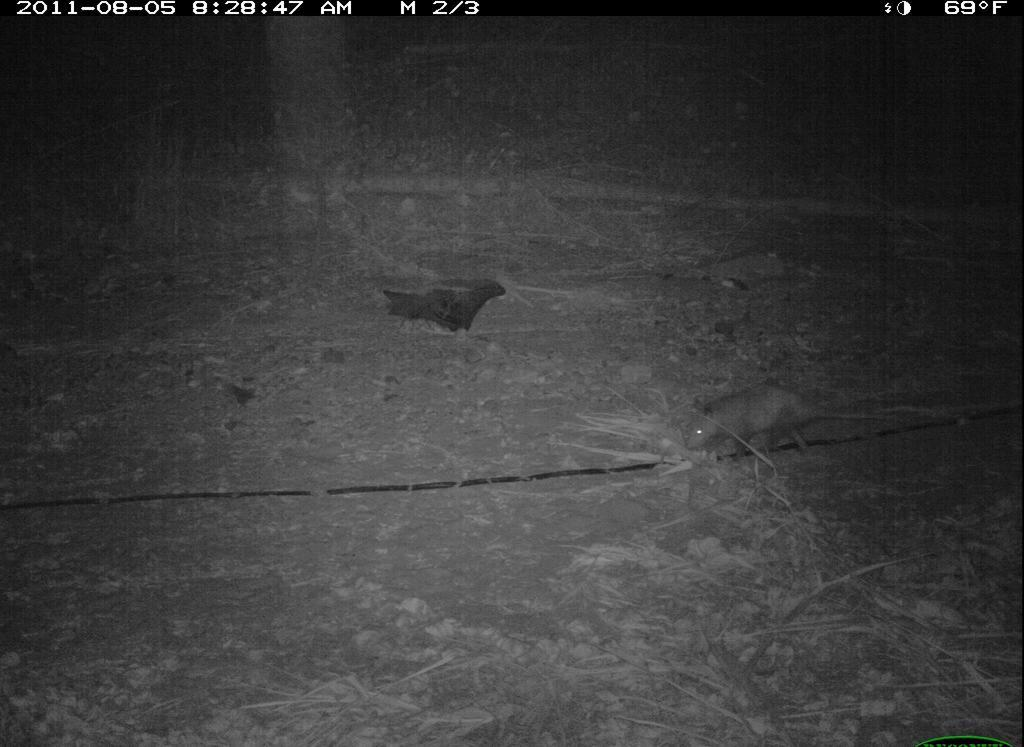opossum: (684, 382, 901, 463)
